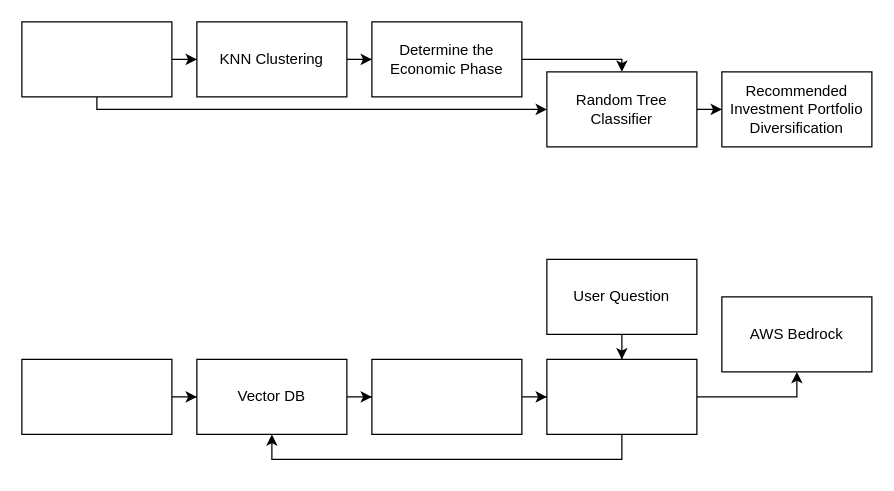
The diagram is 894 pixels wide and 491 high, and some of its shapes have lost their labels. The shapes that lost their labels are listed below. From the top down, each one's centre as x and y in pixels, then its label:
At (96,59): "Macroeconomic Data".
At (96,396): "User Personal Data and Monthly Income".
At (446,396): "Similarity Search".
At (621,396): "Text Embedding".
